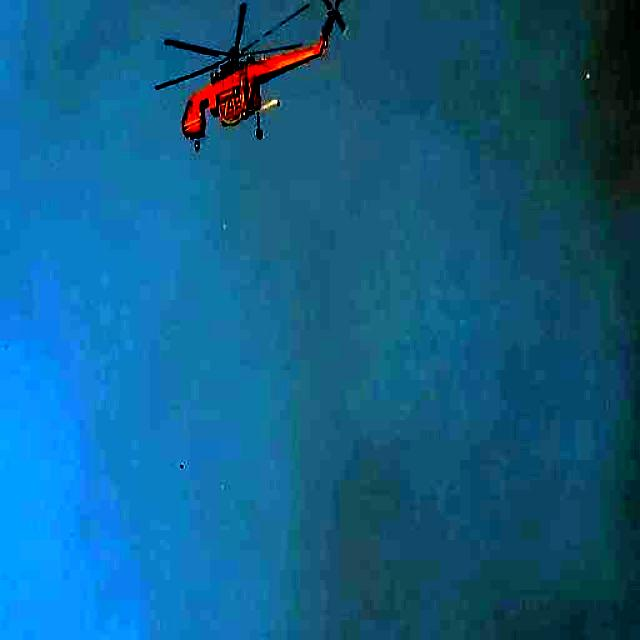drone: (154, 0, 350, 155)
